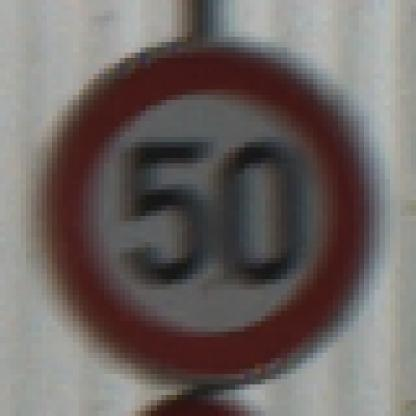Speed Limit 50: (44, 47, 370, 372)
